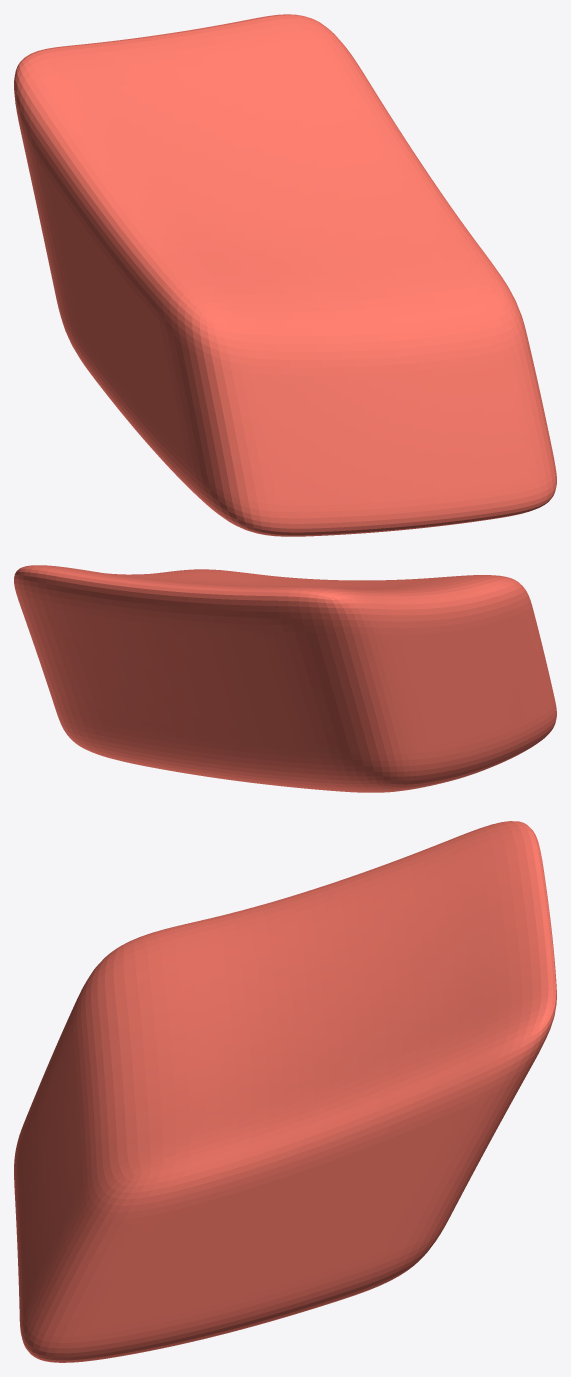
3 views of the same model, one above another, from view 1: azimuth 30°, elevation 25°; view 2: azimuth 150°, elevation 25°; view 3: azimuth 270°, elevation 25° (orthographic). The views are drawn at different scales.
Parts seen in each view (by area): view 1: waves_1.050; view 2: waves_1.050; view 3: waves_1.050.
Boxes of the visible parts, <box> form: waves_1.050: <box>14,14,556,536</box>; waves_1.050: <box>14,565,556,792</box>; waves_1.050: <box>14,821,556,1362</box>.
Bounding box in the file's own units: 30.12 × 29.32 × 37.44.
